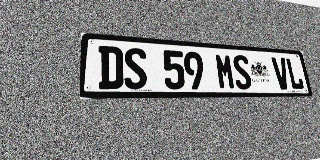5: (163, 50, 186, 89)
9: (183, 51, 206, 89)
D: (98, 46, 123, 89)
L: (285, 58, 305, 90)
M: (214, 53, 236, 89)
S: (123, 47, 148, 89), (232, 54, 253, 89)
V: (271, 57, 291, 89)
